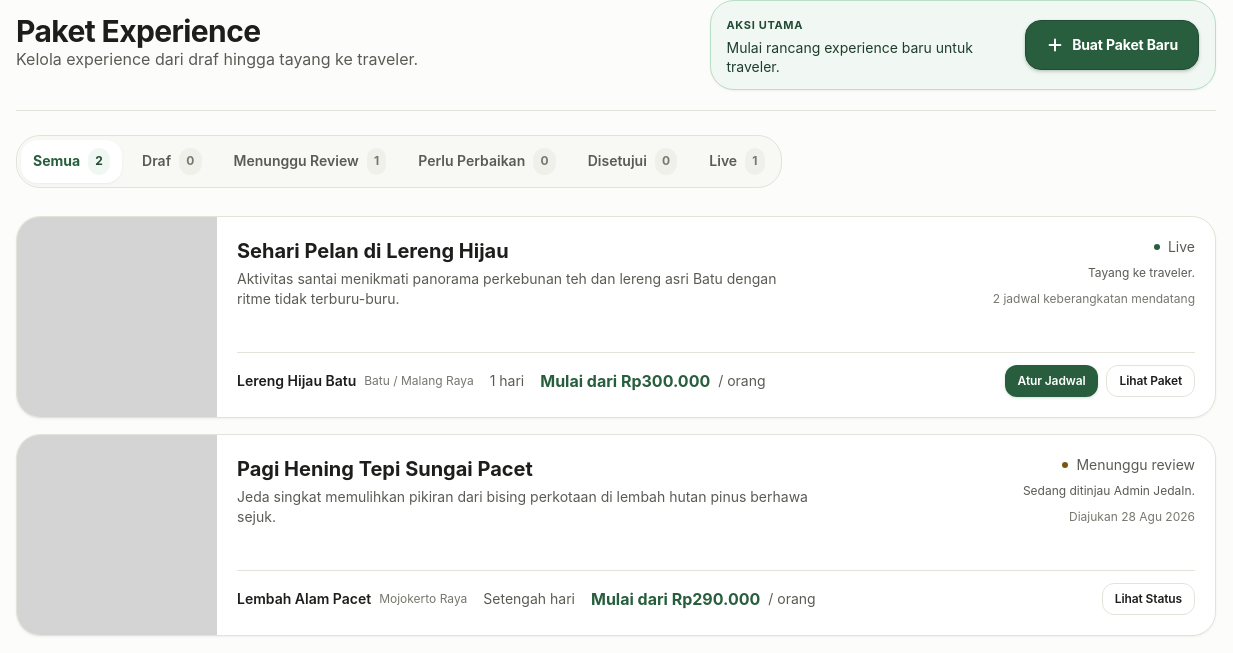
Test: Travel Organizer status presentation › uses inline package lifecycle text and retains numeric filter counts
Expected: the element with class "inline-status" showing "Live" is shown, left=1154, top=237, right=1195, bottom=257
What coordinates should you click on to do the following:
click the tab with class "eo-packages-filter__tab" showing "Live 1"
I would click on:
 (737, 161)
Its box is left=697, top=140, right=777, bottom=183.
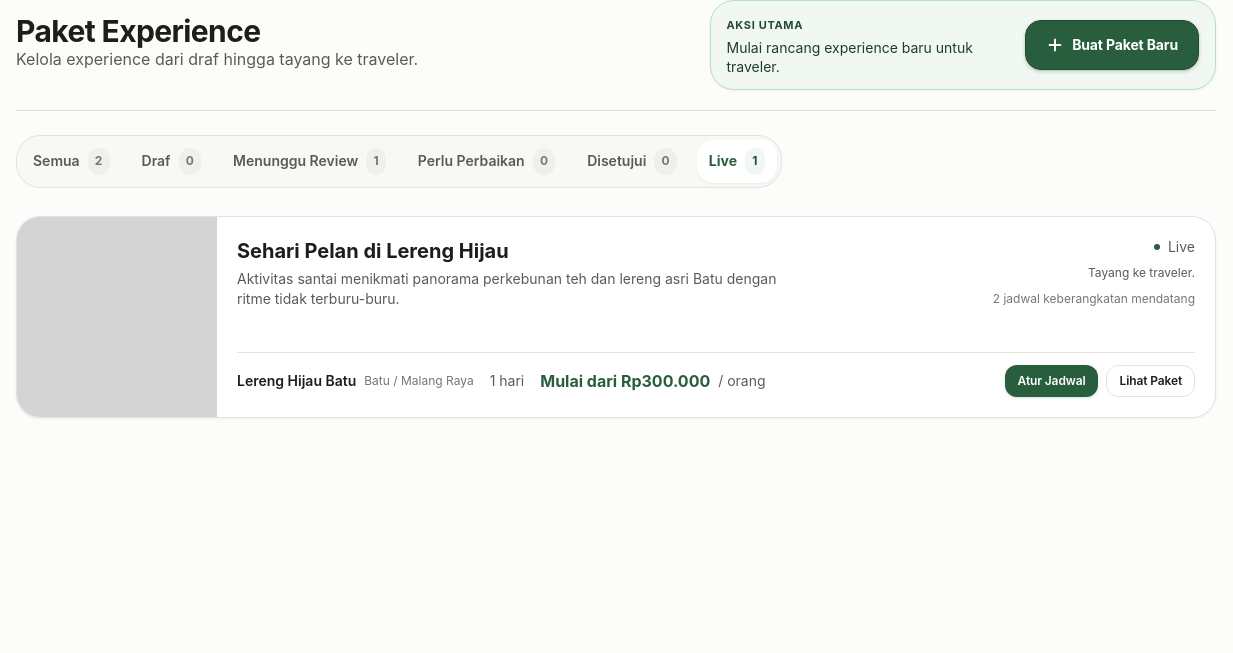
Result: the number of elements with class "eo-pkg-card" is 1 at left=16, top=216, right=1216, bottom=418
